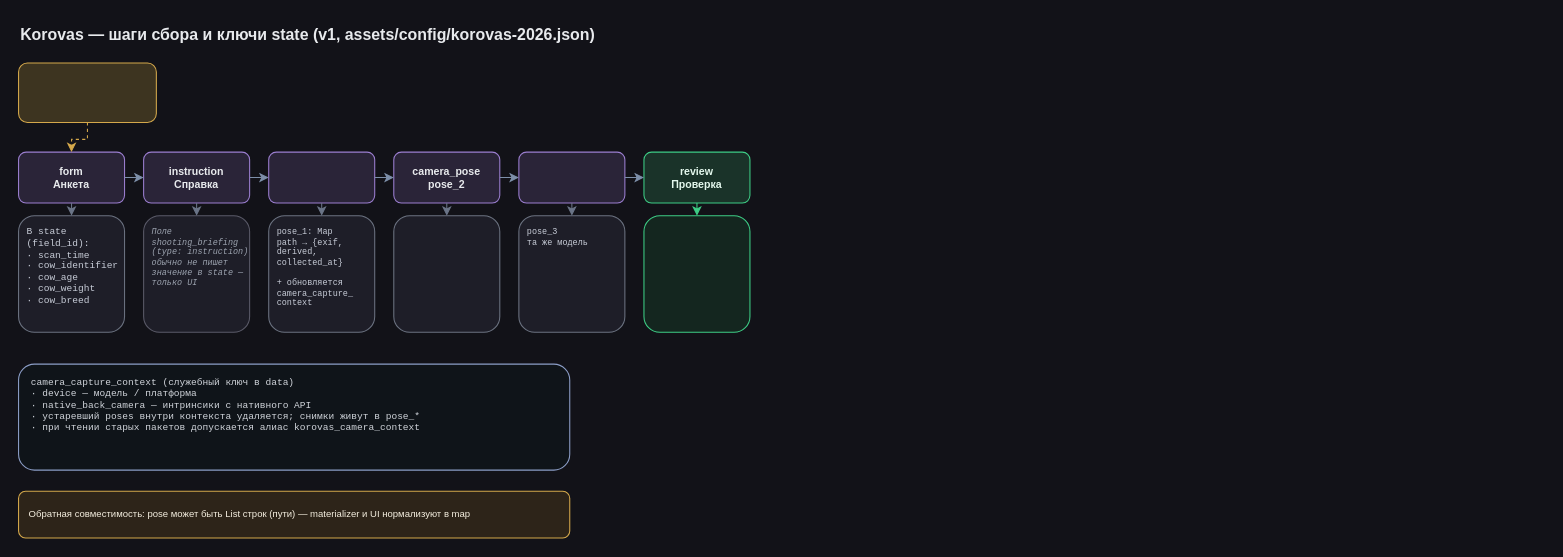
The diagram is 1563 pixels wide and 557 high, and some of its shapes have lost their labels. The shapes that lost their labels are listed below. From the top down, each one's box as (x1, y1, x2, y2) in pixels, then its label:
(17, 62, 156, 122): wizard korovas-2026
(268, 151, 375, 203): camera_pose pose_1
(518, 151, 625, 203): camera_pose pose_3
(393, 215, 500, 332): pose_2 та же модель (map путей)
(643, 215, 750, 332): Сводка → Submit materialize + SQLite
